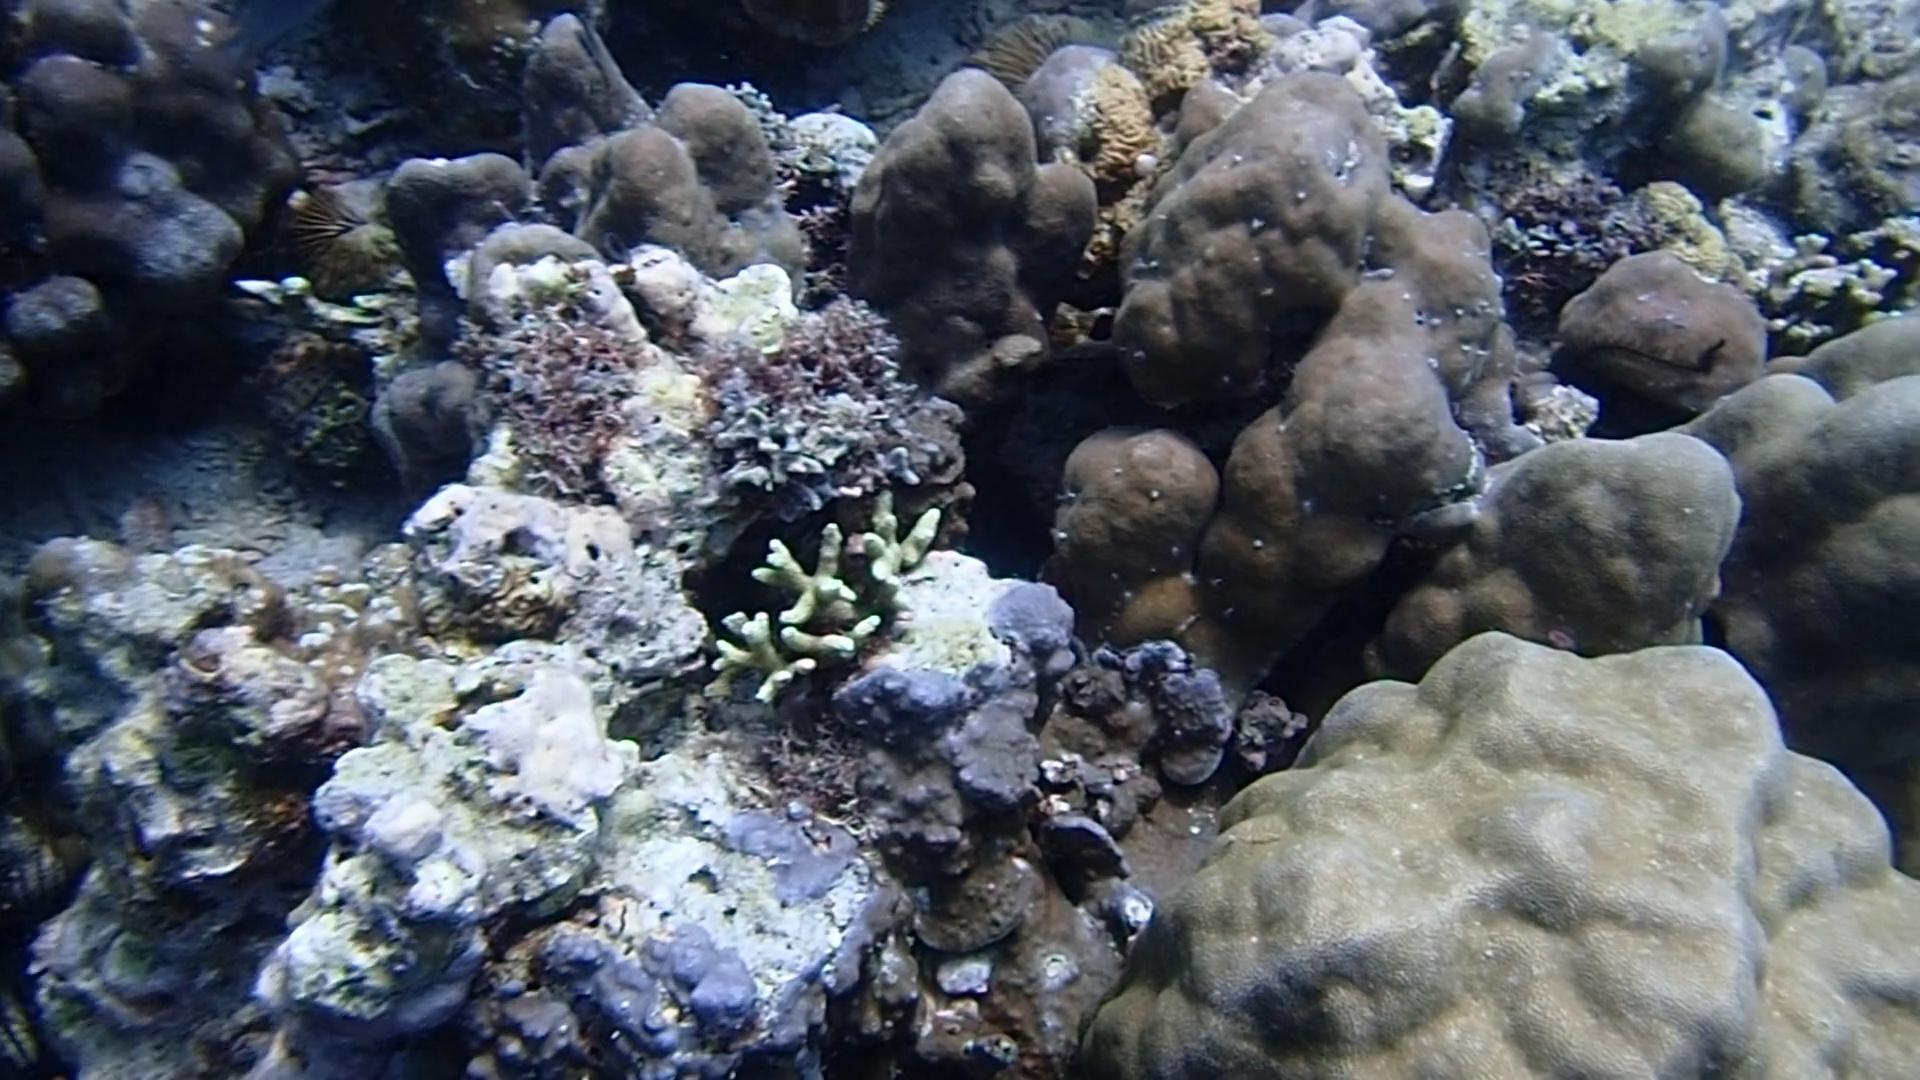Blue Fish Two: (195, 0, 324, 95)
